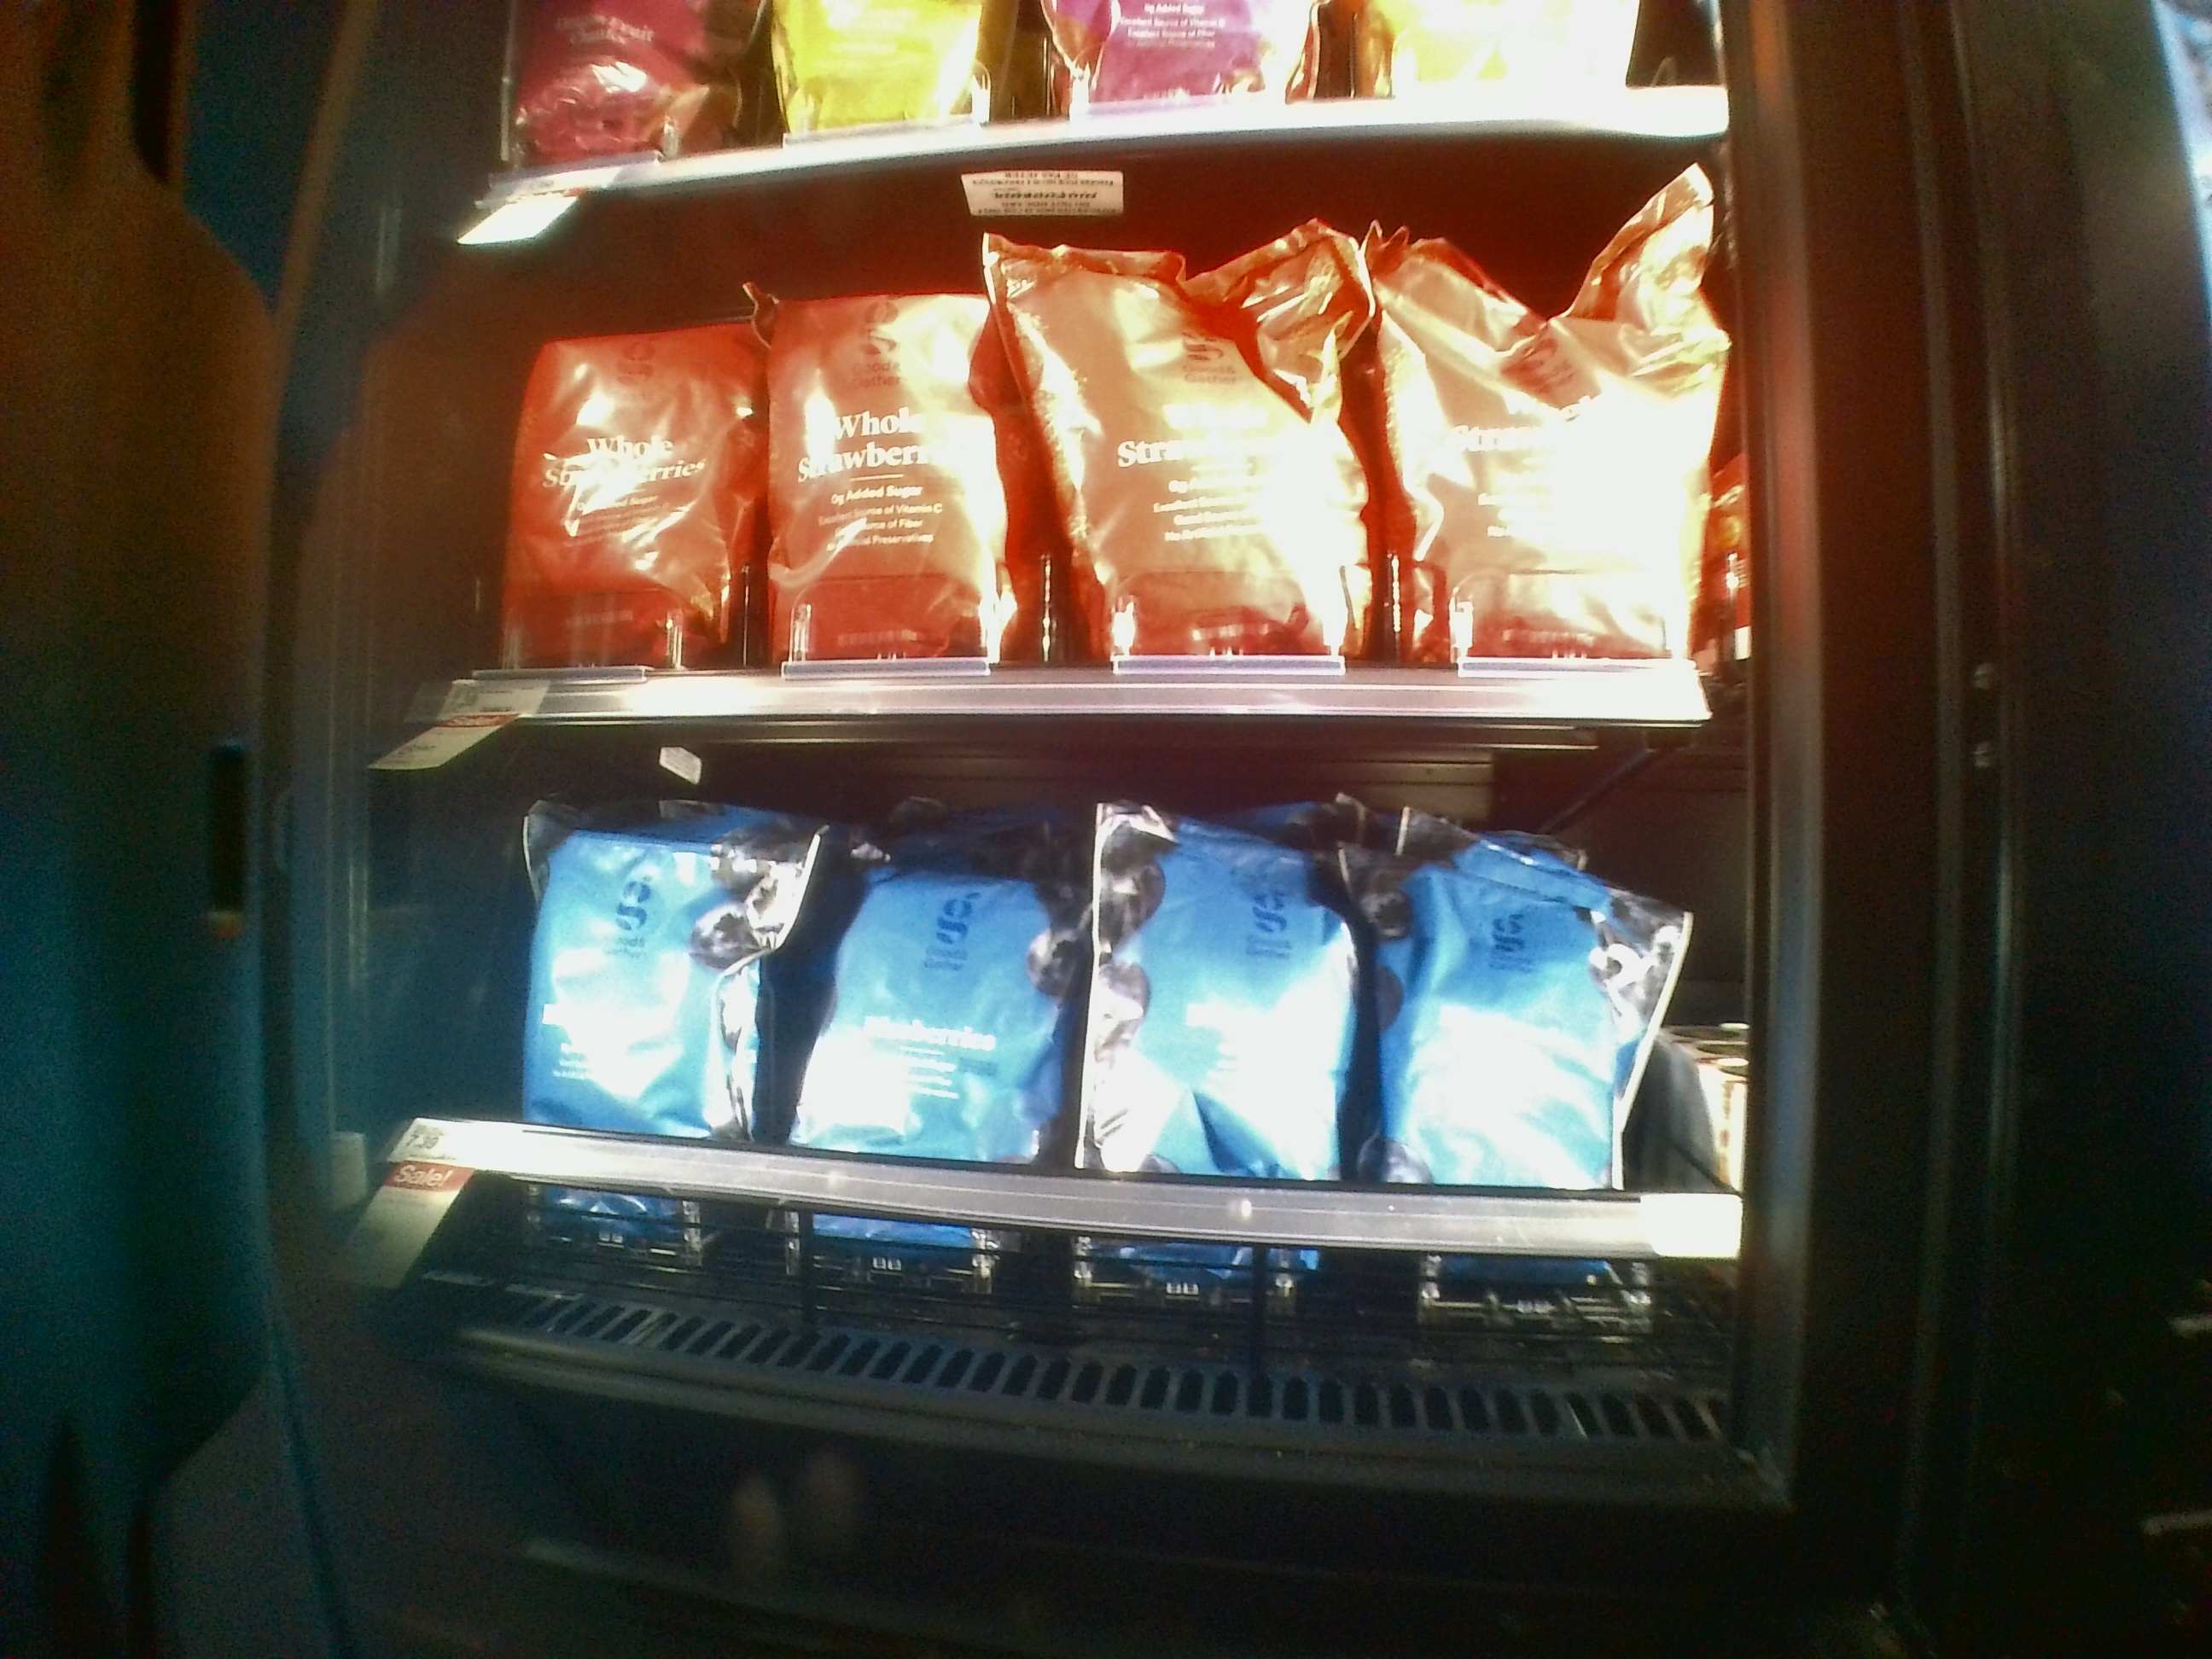shelf: (408, 720, 1771, 1398), (446, 171, 1752, 720)
